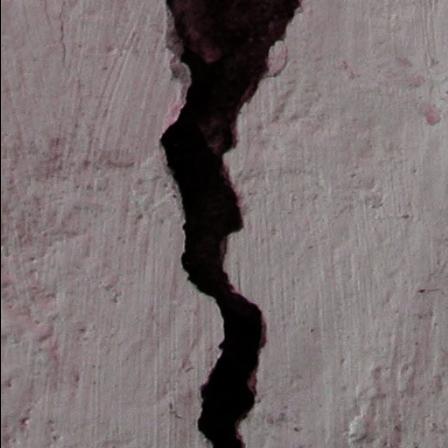crack: (115, 0, 303, 448)
